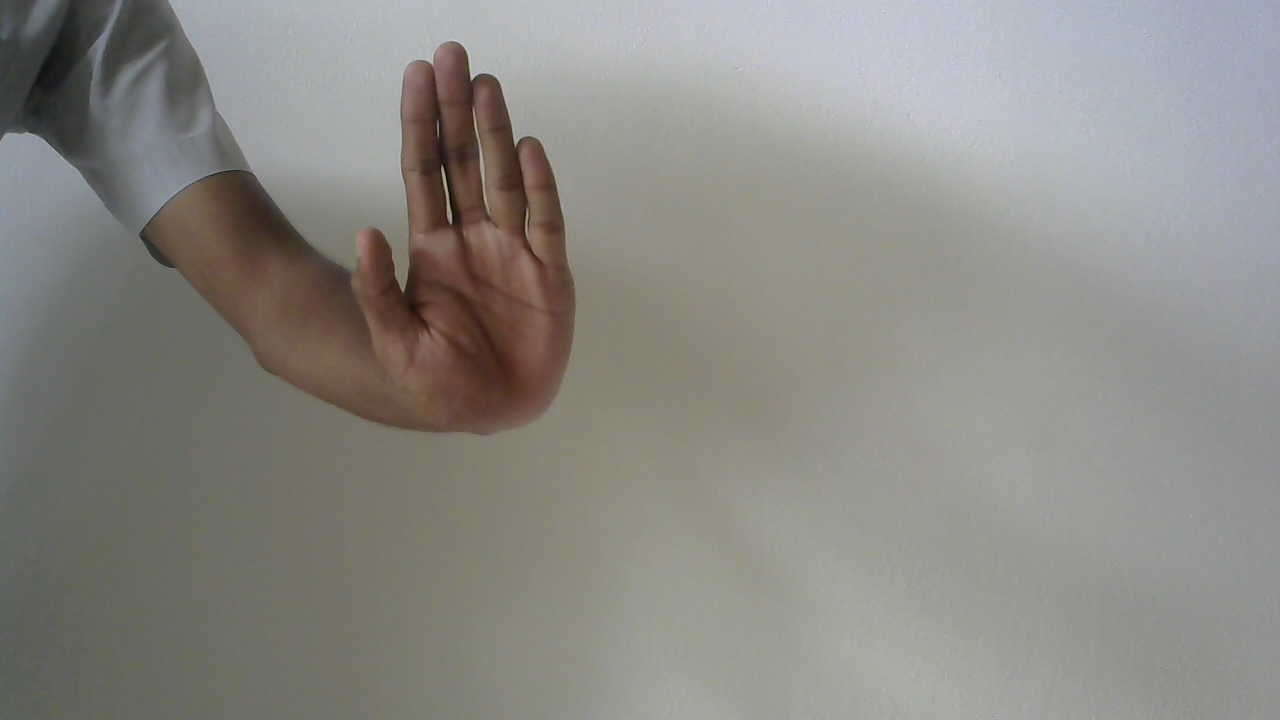hello: (336, 35, 587, 444)
